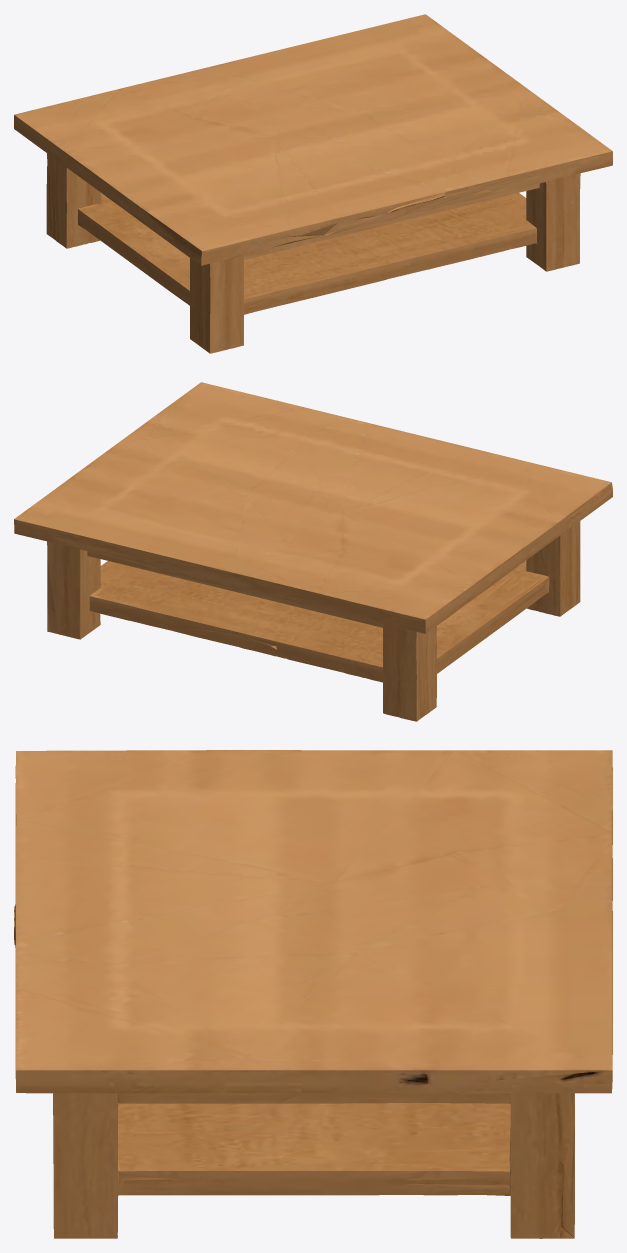
Rendered from coffee_table.glb.
3 views of the same model, one above another, from view 1: azimuth 30°, elevation 25°; view 2: azimuth 150°, elevation 25°; view 3: azimuth 270°, elevation 25° (orthographic). The views are drawn at different scales.
Size of the model in its own units: 1.9 by 0.5123 by 1.5.
Materials: 1 (1 with a texture image).
